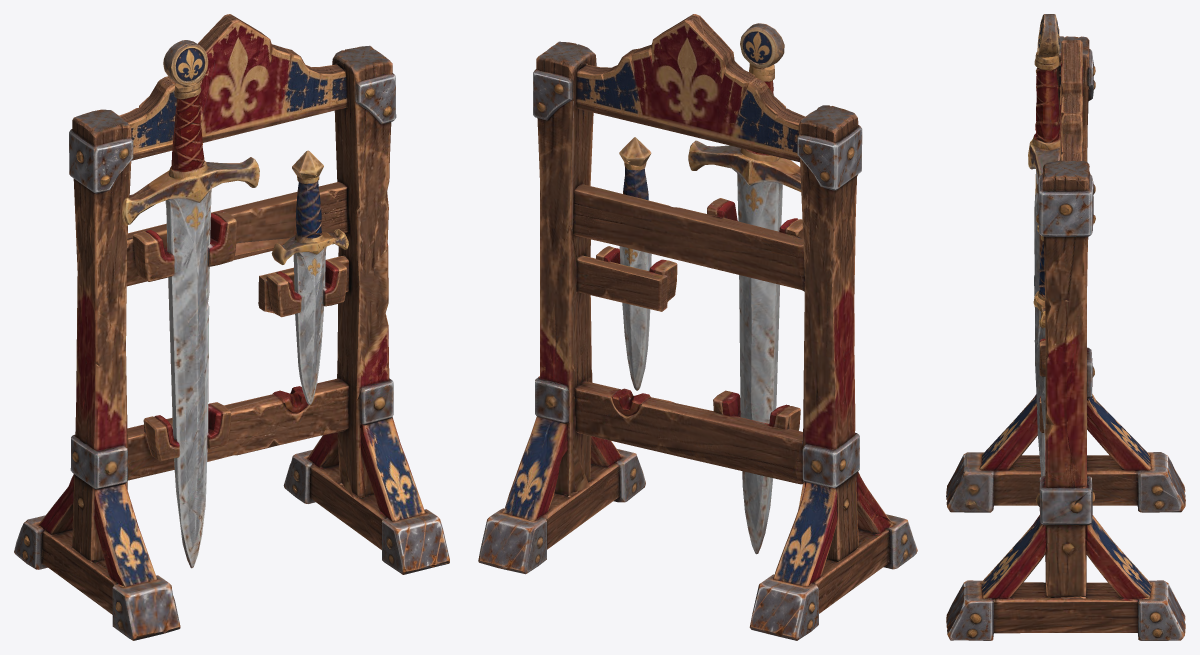
Rendered from feast-weapon-rack.glb.
3 renders of one model, left to right at view 1: azimuth 30°, elevation 25°; view 2: azimuth 150°, elevation 25°; view 3: azimuth 270°, elevation 25°, orthographic. The views are drawn at different scales.
Visible parts, largest first — view 1: output_unwrapped; view 2: output_unwrapped; view 3: output_unwrapped.
Boxes of the visible parts, x1,y1,x2,y2 form: output_unwrapped: [14, 14, 449, 640]; output_unwrapped: [478, 14, 917, 640]; output_unwrapped: [946, 14, 1185, 640].
Bounding box in the file's own units: 1.19 × 1.9 × 0.7861.
Materials: 1 (1 with a texture image).
